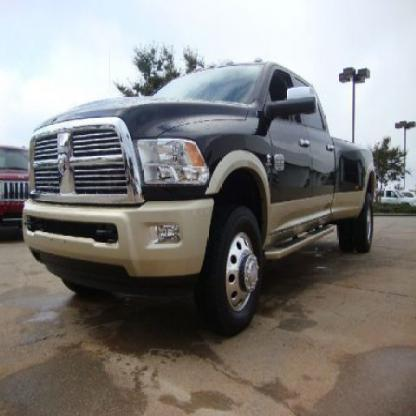Vehicle: (14, 52, 380, 335)
